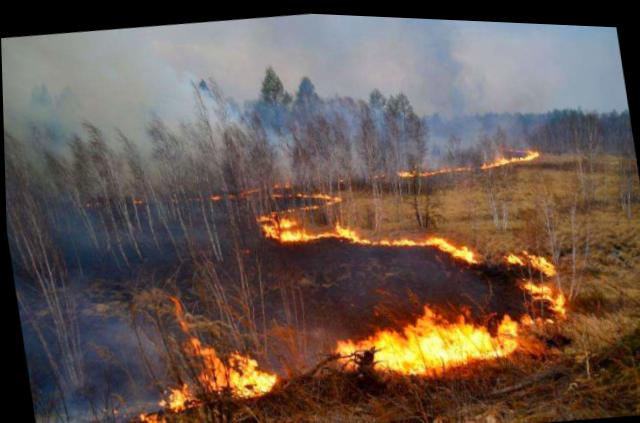fire: (112, 125, 574, 421), (86, 407, 169, 421)
